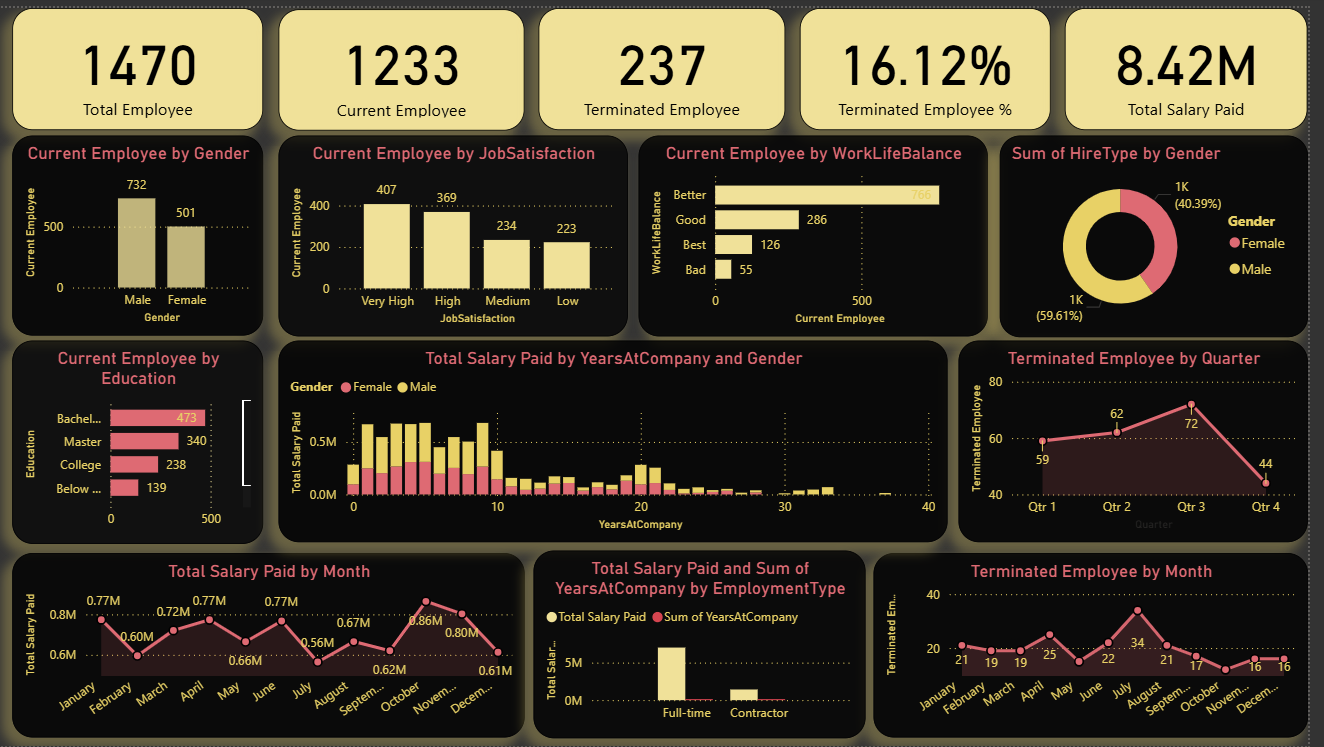

This screenshot's page, from the dashboard's own definition file:
{"tool":"powerbi","page":{"name":"Human Capital Dashboard","canvas":[1280,720],"ordinal":0},"visuals":[{"type":"card","fields":{"Values":["Employee.Total Employee"]},"box":[15.9,0,245.1,119.5],"z":0},{"type":"card","fields":{"Values":["Employee.Current Employee"]},"box":[276,1,240,118],"z":1000},{"type":"card","fields":{"Values":["Employee.Terminated Employee %"]},"box":[529,0,241,119],"z":2000},{"type":"card","fields":{"Values":["Employee.Terminated Employee %"]},"box":[784,0,245,119],"z":3000},{"type":"card","fields":{"Values":["Employee.Total Salary Paid"]},"box":[1043,0,237,119],"z":4000},{"type":"columnChart","fields":{"Category":["Employee.Gender"],"Y":["Employee.Current Employee"]},"box":[15.9,124.4,245.1,195.1],"z":5000},{"type":"clusteredBarChart","fields":{"Y":["Employee.Current Employee"],"Category":["Employee.Education"]},"box":[15.9,324.4,245.1,198.8],"z":6000},{"type":"columnChart","fields":{"Y":["Employee.Current Employee"],"Category":["Employee.JobSatisfaction"]},"box":[276,124,341,196],"z":7000},{"type":"barChart","fields":{"Category":["Employee.WorkLifeBalance"],"Y":["Employee.Current Employee"]},"box":[627,124,341,196],"z":8000},{"type":"donutChart","fields":{"Category":["Employee.DateStart.Variation.Date Hierarchy.Quarter","Employee.Gender"],"Y":["Sum(Employee.HireType)"]},"box":[979,124,301,197],"z":9000},{"type":"lineChart","fields":{"Category":["Employee.DateStart.Variation.Date Hierarchy.Quarter"],"Y":["Employee.Terminated Employee"]},"box":[939,324,341,197],"z":10000},{"type":"stackedAreaChart","fields":{"Y":["Employee.Terminated Employee"],"Category":["Employee.DateStart.Variation.Date Hierarchy.Month"]},"box":[856,532,424,180],"z":11000},{"type":"lineChart","fields":{"Y":["Employee.Total Salary Paid"],"Category":["Employee.DateStart.Variation.Date Hierarchy.Month"]},"box":[16,532,500,180],"z":12000},{"type":"columnChart","fields":{"Category":["Employee.YearsAtCompany"],"Y":["Employee.Total Salary Paid"],"Series":["Employee.Gender"]},"box":[276,324,653,197],"z":13000},{"type":"clusteredColumnChart","fields":{"Category":["Employee.EmploymentType"],"Y":["Employee.Total Salary Paid","Sum(Employee.YearsAtCompany)"]},"box":[524,529,324,183],"z":14000}]}

Visuals, with their boxes in screenshot pixels (x1, y1, x2, y2), scaled from the page's 1280x720 canvas onto the 1324x747 screenshot:
card - Employee.Total Employee: (16,0,270,124)
card - Employee.Current Employee: (285,1,534,123)
card - Employee.Terminated Employee %: (547,0,796,123)
card - Employee.Terminated Employee %: (811,0,1064,123)
card - Employee.Total Salary Paid: (1079,0,1323,123)
columnChart - Employee.Gender x Employee.Current Employee: (16,129,270,331)
clusteredBarChart - Employee.Current Employee x Employee.Education: (16,337,270,543)
columnChart - Employee.Current Employee x Employee.JobSatisfaction: (285,129,638,332)
barChart - Employee.WorkLifeBalance x Employee.Current Employee: (649,129,1001,332)
donutChart - Employee.DateStart.Variation.Date Hierarchy.Quarter x Employee.Gender: (1013,129,1323,333)
lineChart - Employee.DateStart.Variation.Date Hierarchy.Quarter x Employee.Terminated Employee: (971,336,1323,541)
stackedAreaChart - Employee.Terminated Employee x Employee.DateStart.Variation.Date Hierarchy.Month: (885,552,1323,739)
lineChart - Employee.Total Salary Paid x Employee.DateStart.Variation.Date Hierarchy.Month: (17,552,534,739)
columnChart - Employee.YearsAtCompany x Employee.Total Salary Paid: (285,336,961,541)
clusteredColumnChart - Employee.EmploymentType x Employee.Total Salary Paid: (542,549,877,739)
